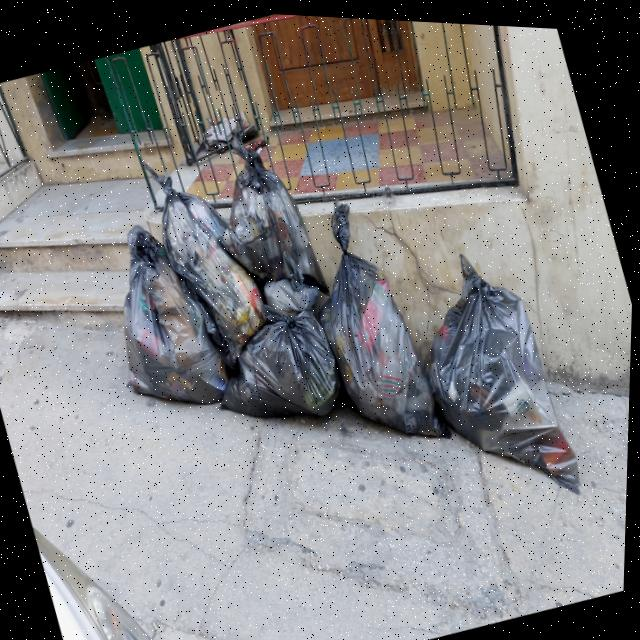Mixed Waste -Black Bag-: (400, 243, 594, 521), (303, 233, 456, 456), (153, 158, 331, 336), (90, 211, 238, 425), (204, 294, 354, 445)
